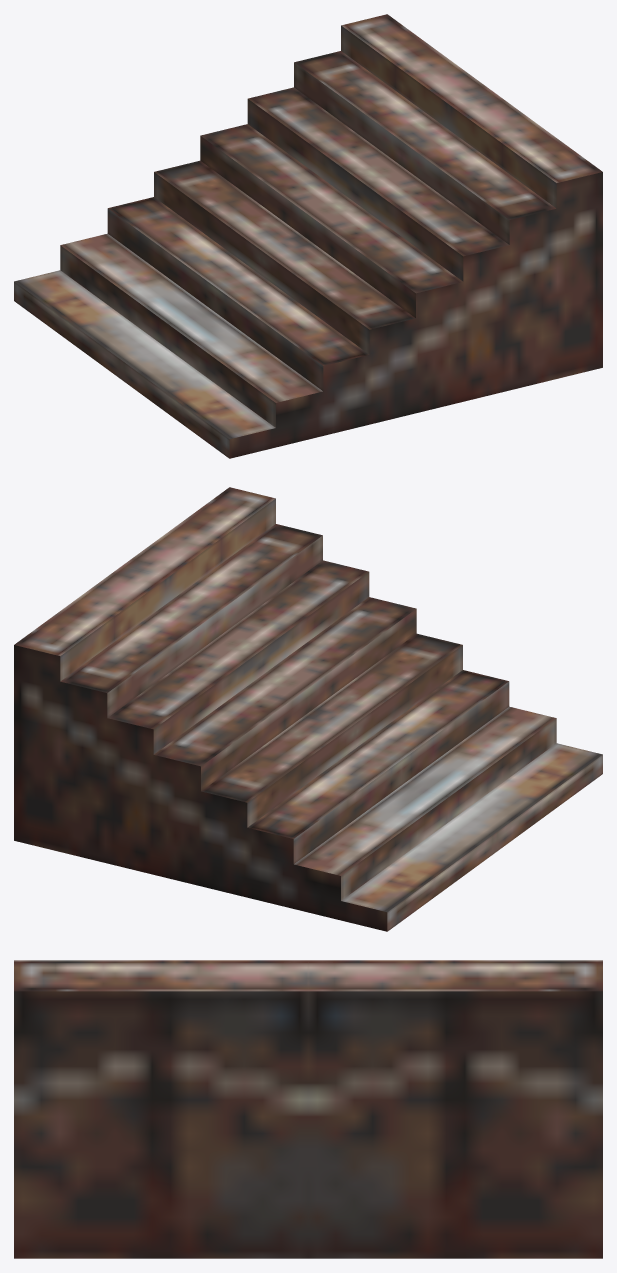
The model's file is Poly_SF_Outside_B_Stairs_01_Left.obj.
3 views of the same model, one above another, from view 1: azimuth 30°, elevation 25°; view 2: azimuth 150°, elevation 25°; view 3: azimuth 270°, elevation 25° (orthographic). The views are drawn at different scales.
Visible parts, largest first — view 1: Cube.003; view 2: Cube.003; view 3: Cube.003.
Part boxes in pixels (<box>): Cube.003: <box>14,14,602,458</box>; Cube.003: <box>14,487,602,931</box>; Cube.003: <box>14,960,602,1258</box>.
Size of the model in its own units: 1 by 0.501 by 1.
1 material, 1 textured.
